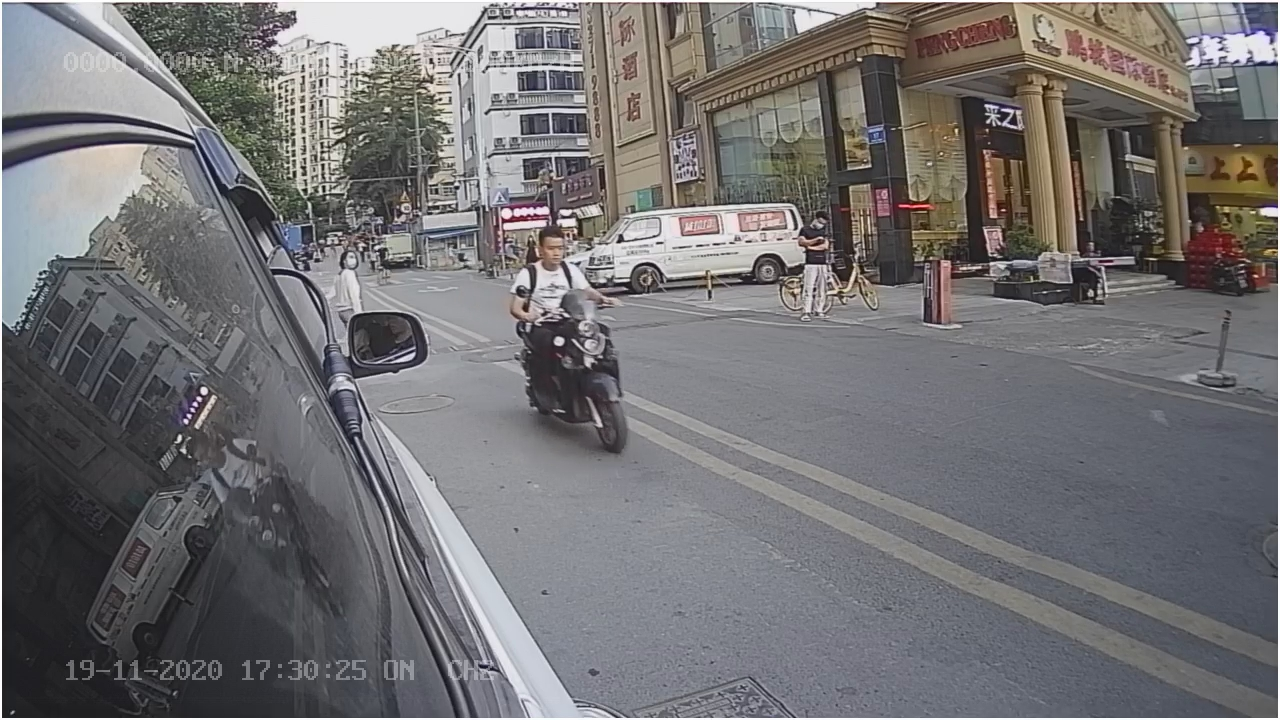person: (509, 222, 588, 292)
